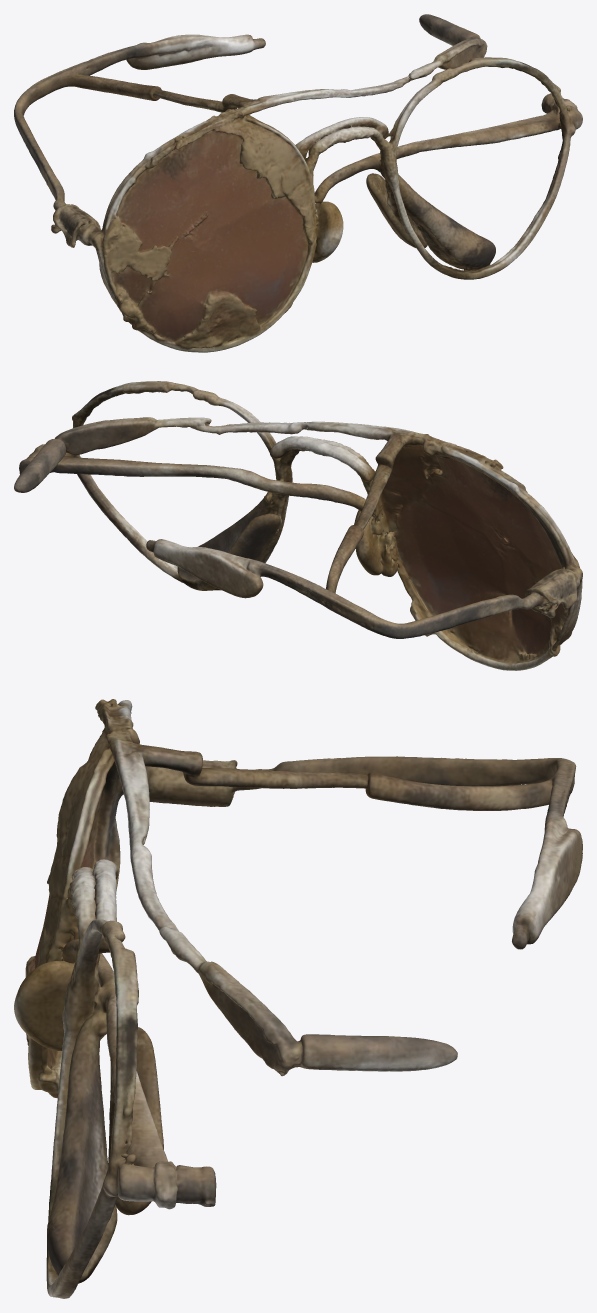
Rendered from muddy_sunglasses.glb.
3 views of the same model, one above another, from view 1: azimuth 30°, elevation 25°; view 2: azimuth 150°, elevation 25°; view 3: azimuth 270°, elevation 25° (orthographic). The views are drawn at different scales.
Parts seen in each view (by area): view 1: world; view 2: world; view 3: world.
Boxes of the visible parts, box(x1,y1,x2,y2) form: world: box(14, 14, 582, 352); world: box(14, 381, 582, 670); world: box(14, 699, 582, 1298).
Bounding box in the file's own units: 1 × 0.411 × 0.5599.
Materials: 1 (1 with a texture image).
